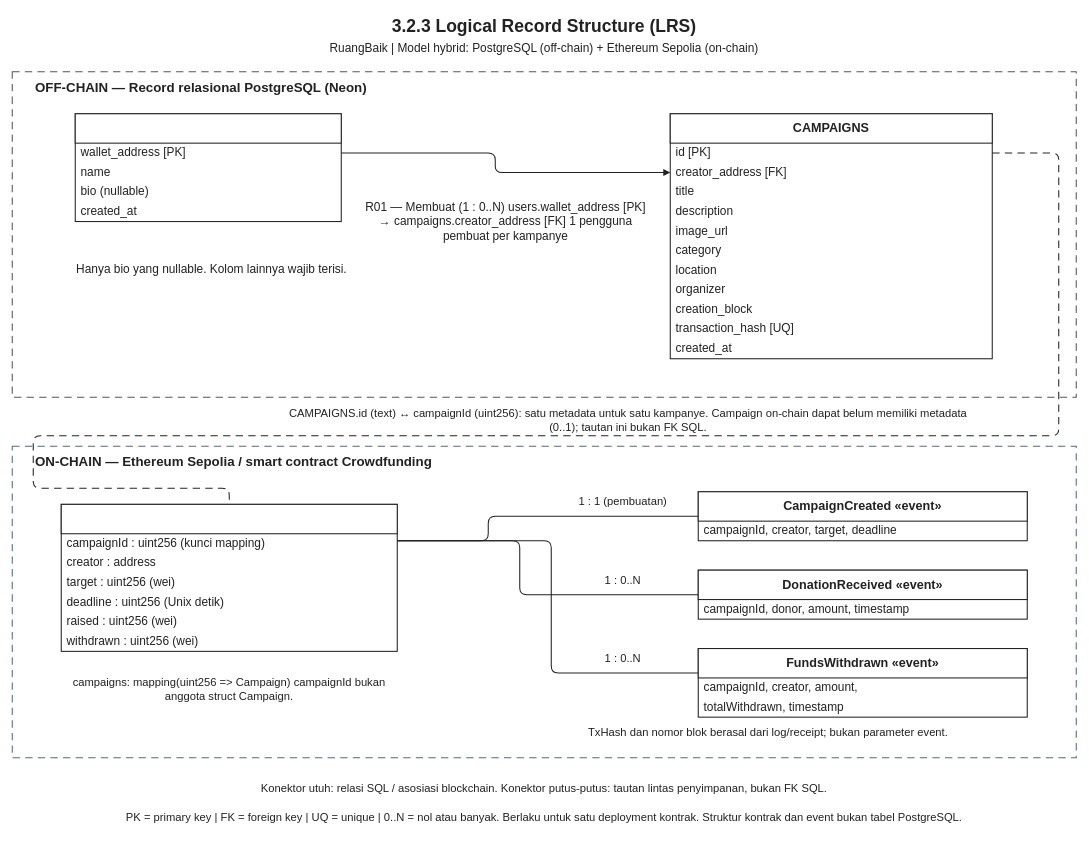
Some shapes in this 1089 by 843 pixel diagram are drawn without their labels. The shapes that lost their labels are listed below. From the top down, each one's centre as x and y in pixels, then its label:
the point at 207,128: USERS
the point at 228,519: Campaign «struct dalam mapping»
